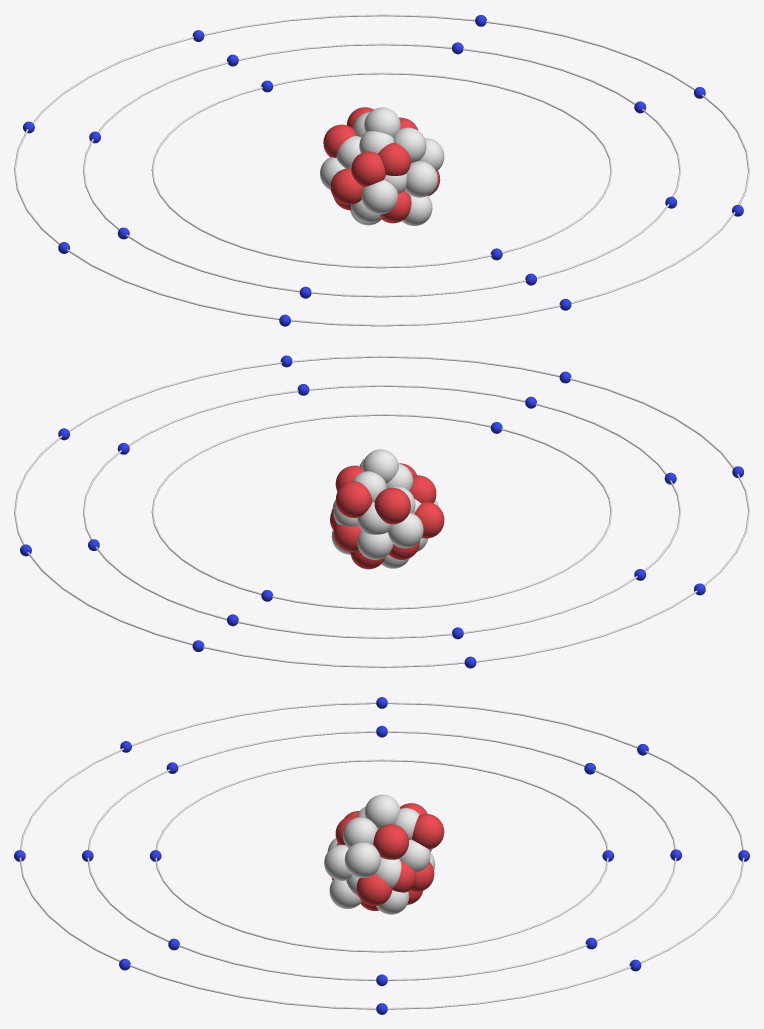
The model's file is Argon.glb.
3 renders of one model, top to bottom at view 1: azimuth 30°, elevation 25°; view 2: azimuth 150°, elevation 25°; view 3: azimuth 270°, elevation 25°, orthographic.
Visible parts, largest first — view 1: M-Schale, L-Schale, K-Schale, Neutron 15, Neutron 13, Proton 14, Proton 16, Proton 15, Neutron 22, Neutron 20, Proton 17, Neutron 14 (+3 smaller); view 2: M-Schale, L-Schale, K-Schale, Proton 17, Proton 18, Neutron 16, Neutron 22, Neutron 8, Proton 16, Neutron 9, Proton 12, Proton 14 (+1 smaller); view 3: M-Schale, L-Schale, K-Schale, Neutron 19, Proton 7, Neutron 22, Proton 18, Proton 11, Neutron 20, Neutron 13, Neutron 14, Neutron 12 (+1 smaller).
Part boxes in pixels (x1=…): M-Schale: x1=14, y1=14, x2=749, y2=326; L-Schale: x1=83, y1=43, x2=680, y2=297; K-Schale: x1=151, y1=72, x2=612, y2=268; Neutron 15: x1=361, y1=180, x2=397, y2=214; Neutron 13: x1=405, y1=161, x2=437, y2=197; Proton 14: x1=351, y1=151, x2=385, y2=186; Proton 16: x1=330, y1=168, x2=363, y2=204; Proton 15: x1=378, y1=143, x2=410, y2=175; Neutron 22: x1=364, y1=107, x2=400, y2=137; Neutron 20: x1=393, y1=127, x2=426, y2=163; Proton 17: x1=323, y1=124, x2=357, y2=157; Neutron 14: x1=402, y1=194, x2=432, y2=225; M-Schale: x1=14, y1=355, x2=749, y2=667; L-Schale: x1=83, y1=385, x2=680, y2=638; K-Schale: x1=151, y1=414, x2=612, y2=609; Proton 17: x1=374, y1=487, x2=410, y2=524; Proton 18: x1=335, y1=481, x2=372, y2=517; Neutron 16: x1=388, y1=513, x2=423, y2=548; Neutron 22: x1=362, y1=449, x2=398, y2=483; Neutron 8: x1=357, y1=530, x2=393, y2=559; Proton 16: x1=414, y1=502, x2=444, y2=538; Neutron 9: x1=357, y1=502, x2=391, y2=534; Proton 12: x1=333, y1=523, x2=361, y2=551; Proton 14: x1=409, y1=475, x2=436, y2=503; M-Schale: x1=19, y1=702, x2=744, y2=1009; L-Schale: x1=87, y1=731, x2=676, y2=980; K-Schale: x1=155, y1=759, x2=608, y2=952; Neutron 19: x1=344, y1=842, x2=380, y2=877; Proton 7: x1=373, y1=824, x2=408, y2=859; Neutron 22: x1=364, y1=794, x2=400, y2=829; Proton 18: x1=412, y1=813, x2=444, y2=849; Proton 11: x1=356, y1=873, x2=392, y2=905; Neutron 20: x1=343, y1=817, x2=377, y2=848; Neutron 13: x1=324, y1=844, x2=352, y2=880; Neutron 14: x1=329, y1=879, x2=361, y2=908; Neutron 12: x1=399, y1=839, x2=430, y2=871.
Bounding box in the file's own units: 16.26 × 2.7 × 16.26.
